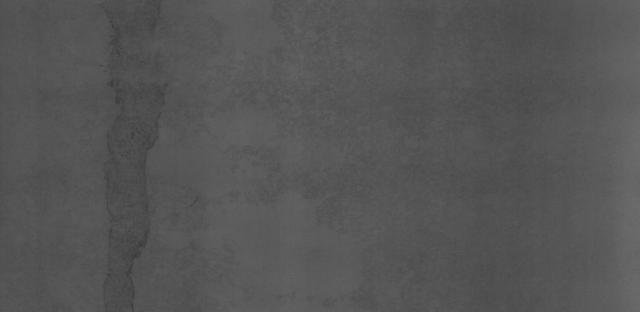water_spot: (92, 5, 187, 299)
